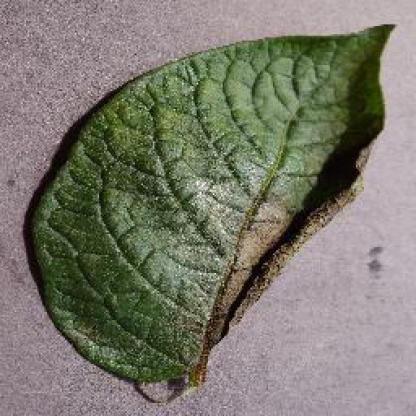bad leaf: (174, 130, 366, 370)
